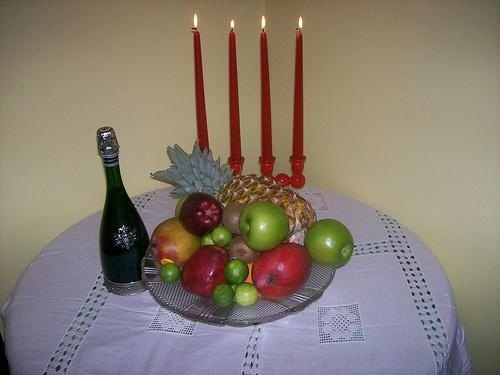bottle: (97, 124, 150, 297)
diningtable: (1, 170, 474, 375)
